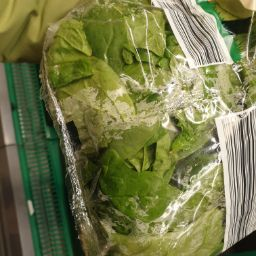Spinach: (30, 11, 226, 256)
